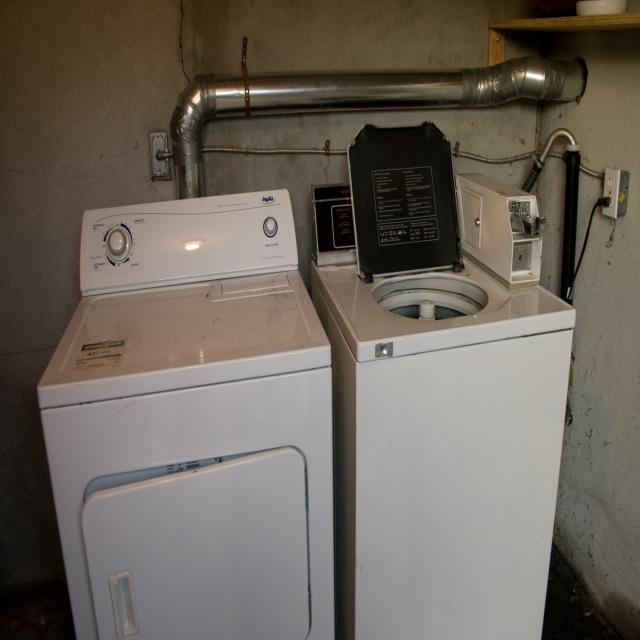Cable: (559, 196, 613, 306)
E-waste: (19, 182, 582, 640)
Metal: (138, 36, 609, 186)
